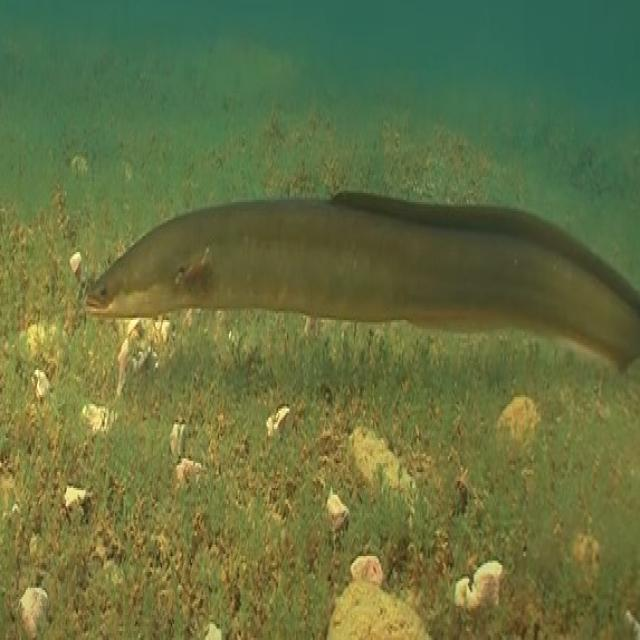Freshwater-Eel: (71, 150, 640, 440)
